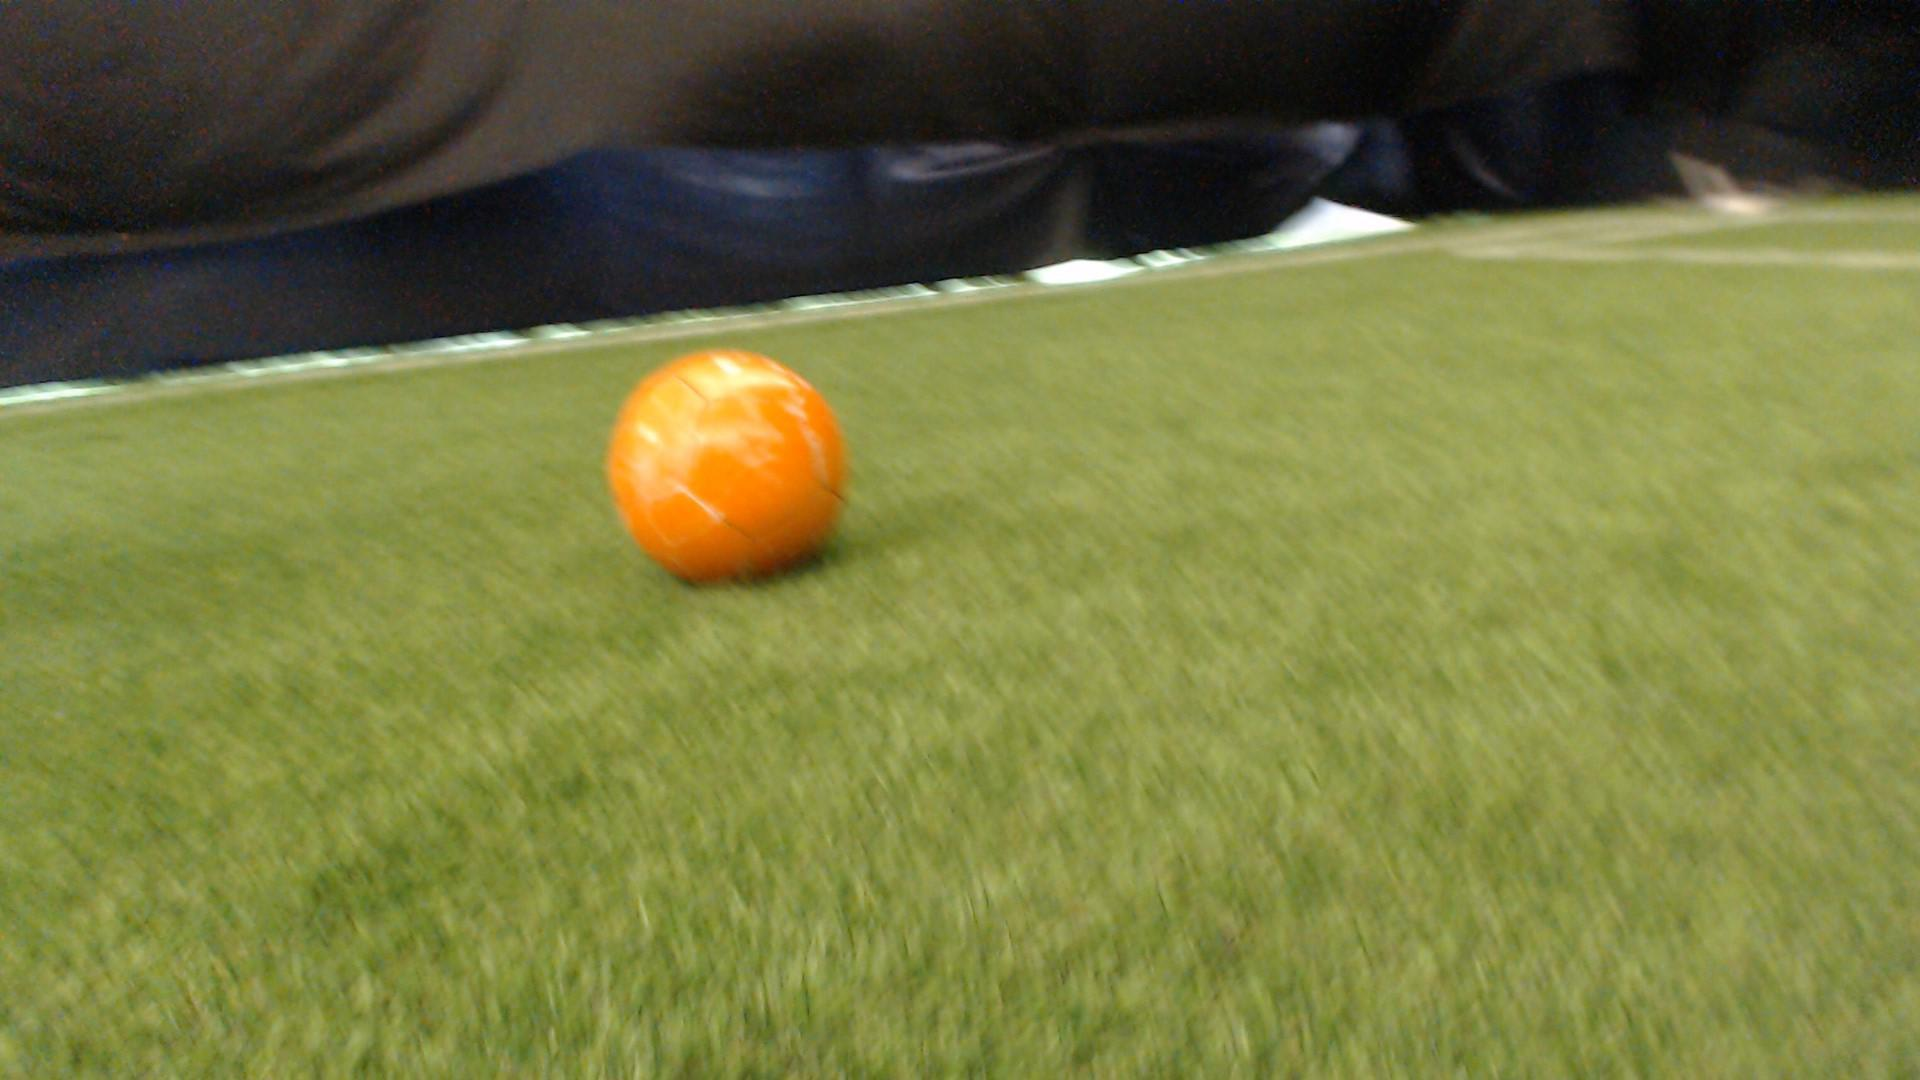bola: (588, 323, 881, 621)
